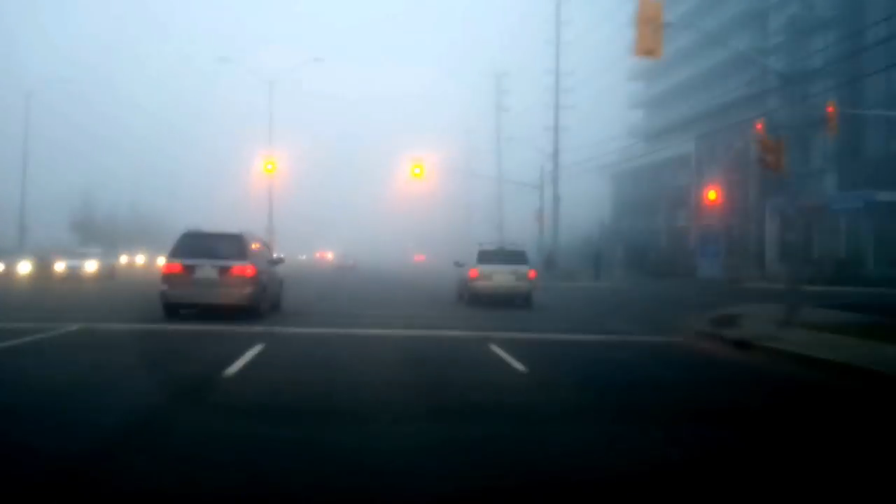car: (158, 228, 288, 320), (451, 240, 539, 309), (49, 244, 119, 283)
